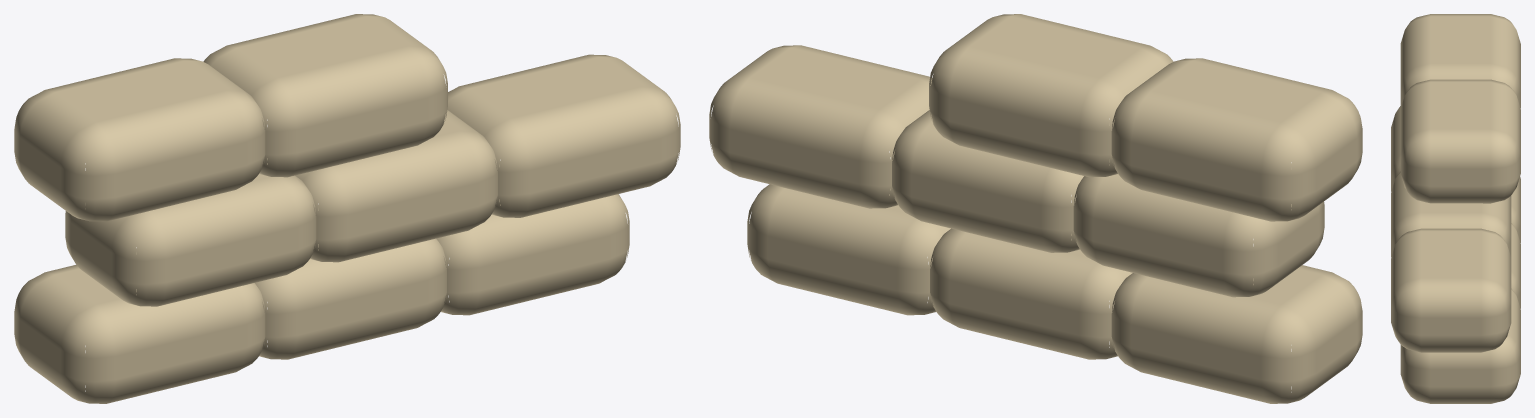
File: sandbag_stack.glb
The picture shows the model from 3 angles, left to right: view 1: azimuth 30°, elevation 25°; view 2: azimuth 150°, elevation 25°; view 3: azimuth 270°, elevation 25°; orthographic projection. The views are drawn at different scales.
Parts seen in each view (by area): view 1: Filled_Sandbag_7, Filled_Sandbag_8, Filled_Sandbag_6, Filled_Sandbag, Filled_Sandbag_4, Filled_Sandbag_5, Filled_Sandbag_3, Filled_Sandbag_2; view 2: Filled_Sandbag_7, Filled_Sandbag_8, Filled_Sandbag_6, Filled_Sandbag, Filled_Sandbag_4, Filled_Sandbag_3, Filled_Sandbag_2, Filled_Sandbag_5; view 3: Filled_Sandbag_6, Filled_Sandbag_8, Filled_Sandbag_7, Filled_Sandbag_3, Filled_Sandbag_5, Filled_Sandbag_2, Filled_Sandbag_4, Filled_Sandbag.
Part boxes in pixels (<box>): Filled_Sandbag_7: <box>14,58,265,221</box>; Filled_Sandbag_8: <box>203,14,447,177</box>; Filled_Sandbag_6: <box>447,54,680,217</box>; Filled_Sandbag: <box>14,251,265,403</box>; Filled_Sandbag_4: <box>65,158,316,306</box>; Filled_Sandbag_5: <box>295,110,497,262</box>; Filled_Sandbag_3: <box>436,164,629,315</box>; Filled_Sandbag_2: <box>255,207,446,359</box>; Filled_Sandbag_7: <box>1111,58,1362,221</box>; Filled_Sandbag_8: <box>929,14,1173,177</box>; Filled_Sandbag_6: <box>709,45,932,208</box>; Filled_Sandbag: <box>1111,265,1362,403</box>; Filled_Sandbag_4: <box>1073,159,1324,297</box>; Filled_Sandbag_3: <box>747,184,950,315</box>; Filled_Sandbag_2: <box>930,228,1132,359</box>; Filled_Sandbag_5: <box>892,110,1109,252</box>; Filled_Sandbag_6: <box>1391,228,1511,352</box>; Filled_Sandbag_8: <box>1400,79,1520,203</box>; Filled_Sandbag_7: <box>1400,14,1520,108</box>; Filled_Sandbag_3: <box>1400,288,1520,403</box>; Filled_Sandbag_5: <box>1391,171,1511,257</box>; Filled_Sandbag_2: <box>1511,223,1520,308</box>; Filled_Sandbag_4: <box>1391,106,1400,191</box>; Filled_Sandbag: <box>1511,176,1520,242</box>.
Size of the model in its own units: 1.64 by 0.72 by 0.41.
